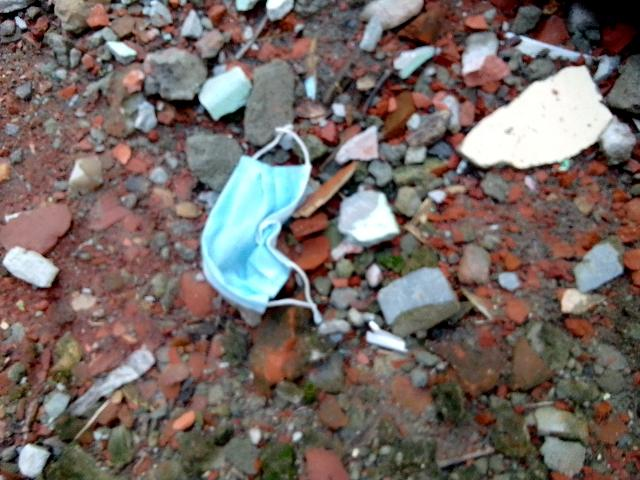mask: (200, 115, 341, 334)
